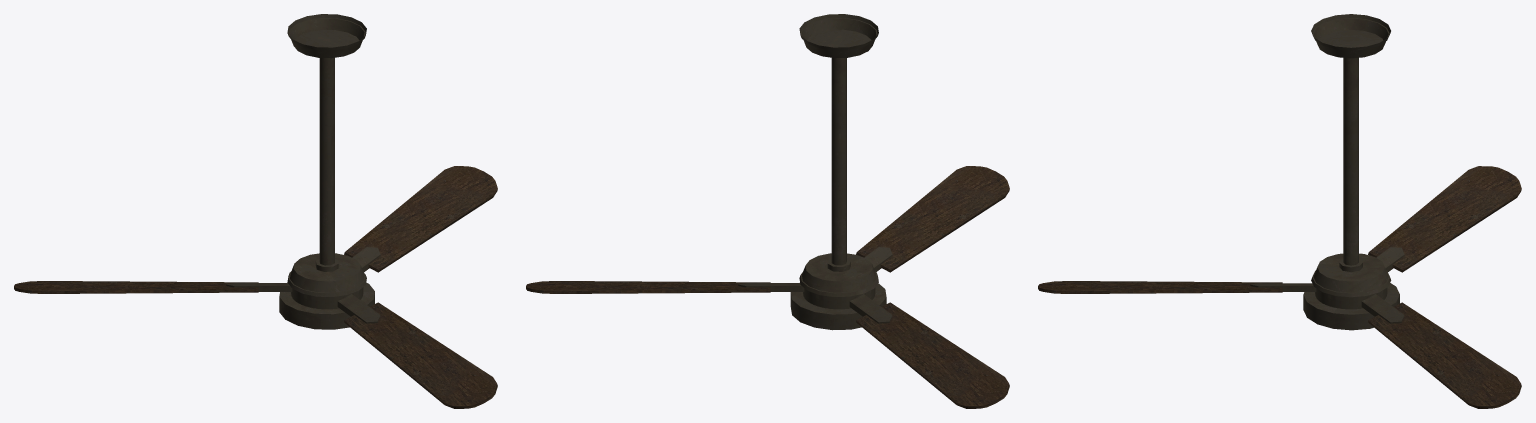
The model's file is ceiling_fan_mp_1.glb.
3 views of the same model, side by side, from view 1: azimuth 30°, elevation 25°; view 2: azimuth 150°, elevation 25°; view 3: azimuth 270°, elevation 25° (orthographic).
Parts seen in each view (by area): view 1: ceiling_fan_mp_1_blades, ceiling_fan_mp_1; view 2: ceiling_fan_mp_1_blades, ceiling_fan_mp_1; view 3: ceiling_fan_mp_1_blades, ceiling_fan_mp_1.
Part boxes in pixels (<box>): ceiling_fan_mp_1_blades: <box>14,166,497,408</box>; ceiling_fan_mp_1: <box>279,14,374,329</box>; ceiling_fan_mp_1_blades: <box>526,166,1009,408</box>; ceiling_fan_mp_1: <box>790,14,886,330</box>; ceiling_fan_mp_1_blades: <box>1038,166,1521,408</box>; ceiling_fan_mp_1: <box>1303,14,1399,330</box>.
Bounding box in the file's own units: 1.02 × 0.5915 × 0.8979.
Materials: 2 (2 with a texture image).
